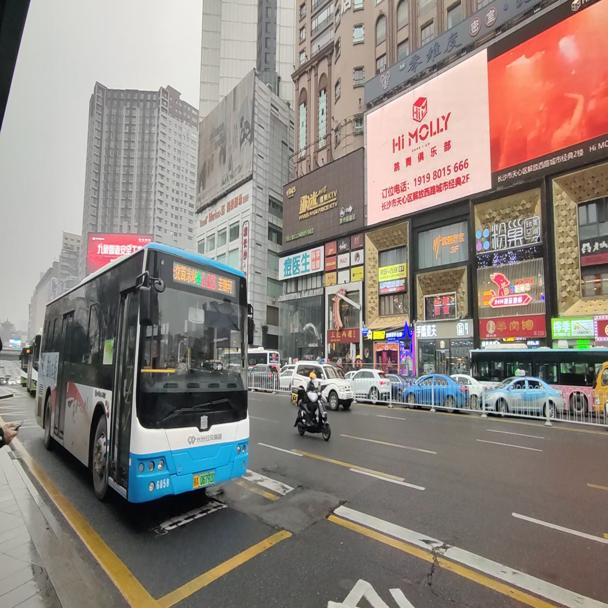bus: (34, 240, 254, 515)
screen: (200, 270, 215, 288)
